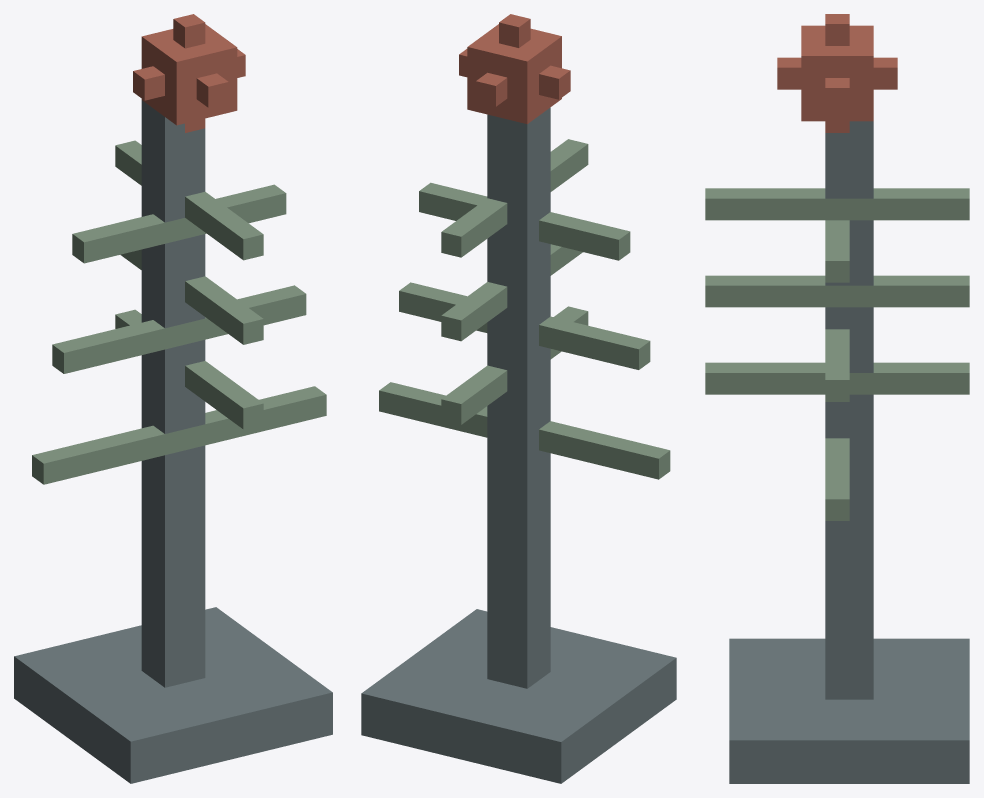
Rendered from geospatial-19.glb.
The picture shows the model from 3 angles, left to right: view 1: azimuth 30°, elevation 25°; view 2: azimuth 150°, elevation 25°; view 3: azimuth 270°, elevation 25°; orthographic projection. The views are drawn at different scales.
Parts seen in each view (by area): view 1: Mapping antenna; view 2: Mapping antenna; view 3: Mapping antenna.
Part boxes in pixels (box(x1,y1,x2,y2)): Mapping antenna: box(14, 14, 332, 783); Mapping antenna: box(361, 14, 676, 783); Mapping antenna: box(705, 14, 969, 783).
Bounding box in the file's own units: 1.12 × 2.64 × 0.88.
